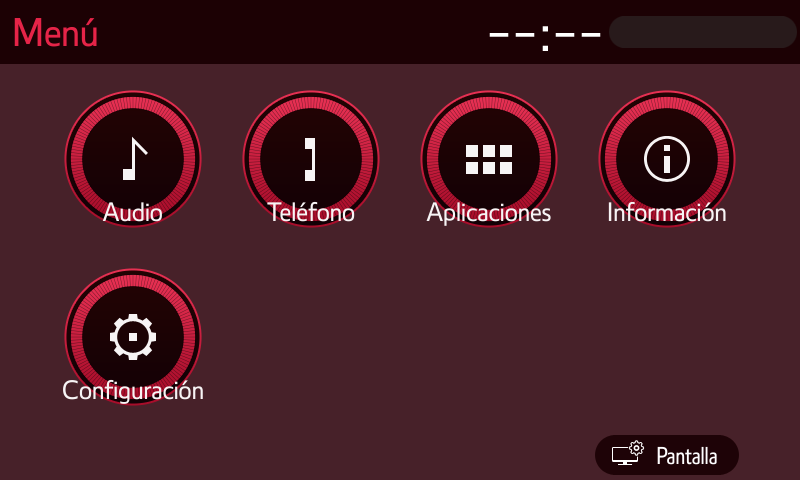touchPart: (35, 267, 221, 411), (585, 91, 749, 235), (49, 87, 211, 229), (413, 87, 567, 233), (237, 86, 383, 229), (591, 428, 743, 476)
untouchPart: (484, 7, 792, 55), (8, 6, 113, 51)
